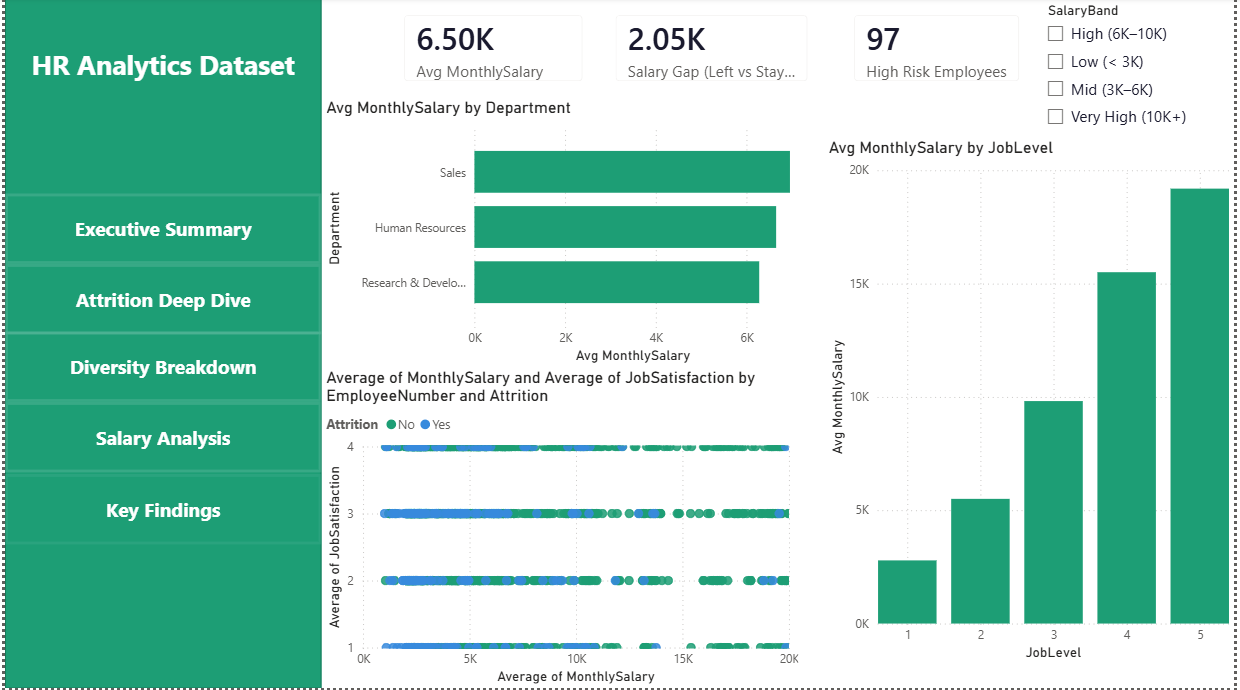

This screenshot's page, from the dashboard's own definition file:
{"tool":"powerbi","page":{"name":"Salary Analysis","canvas":[1280,720],"ordinal":3},"visuals":[{"type":"clusteredBarChart","fields":{"Category":["Employee_JobInfo.Department"],"Y":["_Measures (2).Avg MonthlySalary"]},"box":[329.8,104.7,501.7,281.3],"z":0},{"type":"scatterChart","fields":{"X":["Avg(Employee_Compensation.MonthlySalary)"],"Y":["Avg(Employee_Compensation.JobSatisfaction)"],"Series":["Employee_Compensation.Attrition"],"Category":["Employee_Compensation.EmployeeNumber"]},"box":[329.8,386.1,501.7,334.5],"z":1000},{"type":"clusteredColumnChart","fields":{"Category":["Employee_JobInfo.JobLevel"],"Y":["_Measures (2).Avg MonthlySalary"]},"box":[853.4,146.9,426.7,548.6],"z":2000},{"type":"slicer","fields":{"Values":["Employee_Compensation.SalaryBand"]},"box":[1073.8,0,206.3,145.4],"z":3000},{"type":"cardVisual","fields":{"Data":["_Measures (2).Avg MonthlySalary"]},"box":[398.6,1.6,220.4,103.2],"z":4000},{"type":"cardVisual","fields":{"Data":["_Measures (2).Salary Gap (Left vs Stayed)"]},"box":[618.9,1.6,234.4,103.2],"z":5000},{"type":"cardVisual","fields":{"Data":["_Measures (2).High Risk Employees"]},"box":[867.5,1.6,206.3,103.2],"z":6000},{"type":"shape","box":[0,0,329.8,720.5],"z":7000},{"type":"actionButton","box":[0,204.8,329.8,73.5],"z":8000},{"type":"actionButton","box":[0,278.2,329.8,73.5],"z":9000},{"type":"actionButton","box":[0,348.5,329.8,73.5],"z":10000},{"type":"actionButton","box":[0,422,329.8,73.5],"z":11000},{"type":"actionButton","box":[0,1.6,329.8,137.5],"z":12000},{"type":"actionButton","box":[0,497,329.8,73.5],"z":13000}]}

Visuals, with their boxes in screenshot pixels (x1, y1, x2, y2), scaled from the page's 1280x720 canvas onto the 1240x690 screenshot:
clusteredBarChart - Employee_JobInfo.Department x _Measures (2).Avg MonthlySalary: 319:100:806:370
scatterChart - Avg(Employee_Compensation.MonthlySalary) x Avg(Employee_Compensation.JobSatisfaction): 319:370:806:689
clusteredColumnChart - Employee_JobInfo.JobLevel x _Measures (2).Avg MonthlySalary: 827:141:1239:667
slicer - Employee_Compensation.SalaryBand: 1040:0:1239:139
cardVisual - _Measures (2).Avg MonthlySalary: 386:2:600:100
cardVisual - _Measures (2).Salary Gap (Left vs Stayed): 600:2:827:100
cardVisual - _Measures (2).High Risk Employees: 840:2:1040:100
shape: 0:0:319:689
actionButton: 0:196:319:267
actionButton: 0:267:319:337
actionButton: 0:334:319:404
actionButton: 0:404:319:475
actionButton: 0:2:319:133
actionButton: 0:476:319:547
